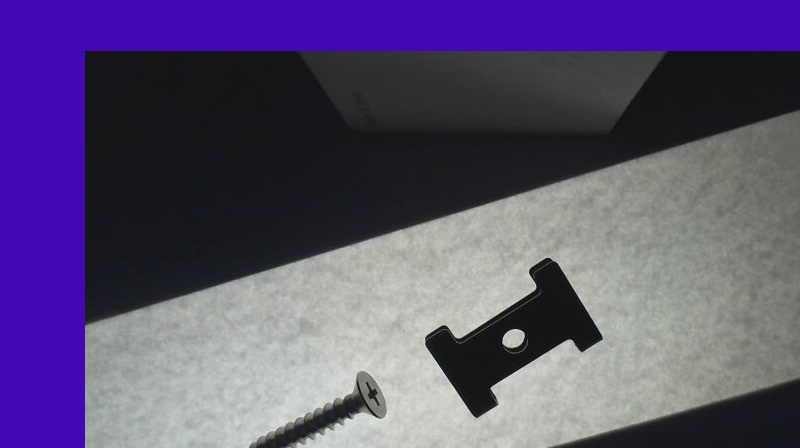O002: (422, 257, 603, 417)
S001: (240, 367, 388, 447)
